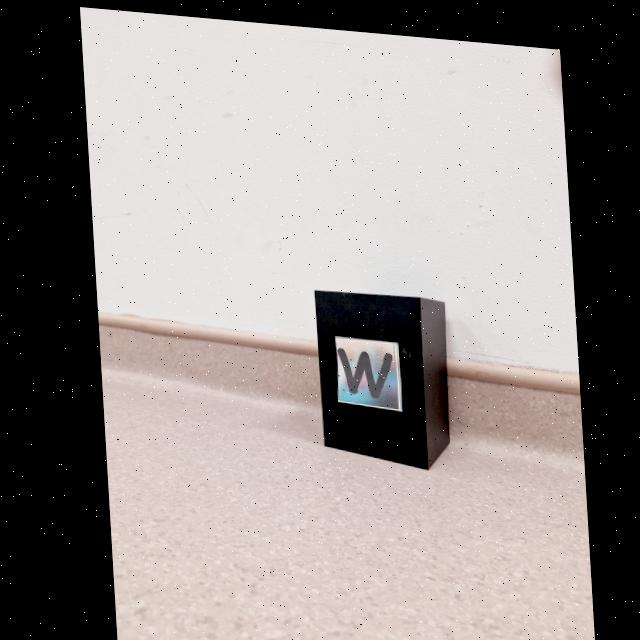W: (333, 342, 387, 391)
